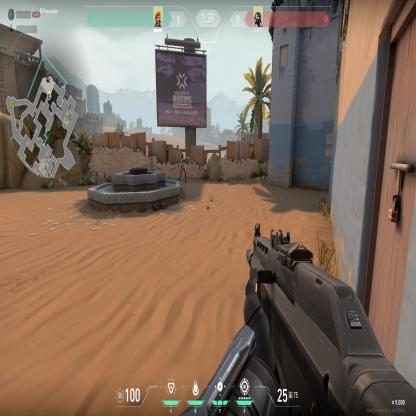enemy: (178, 152, 188, 182)
